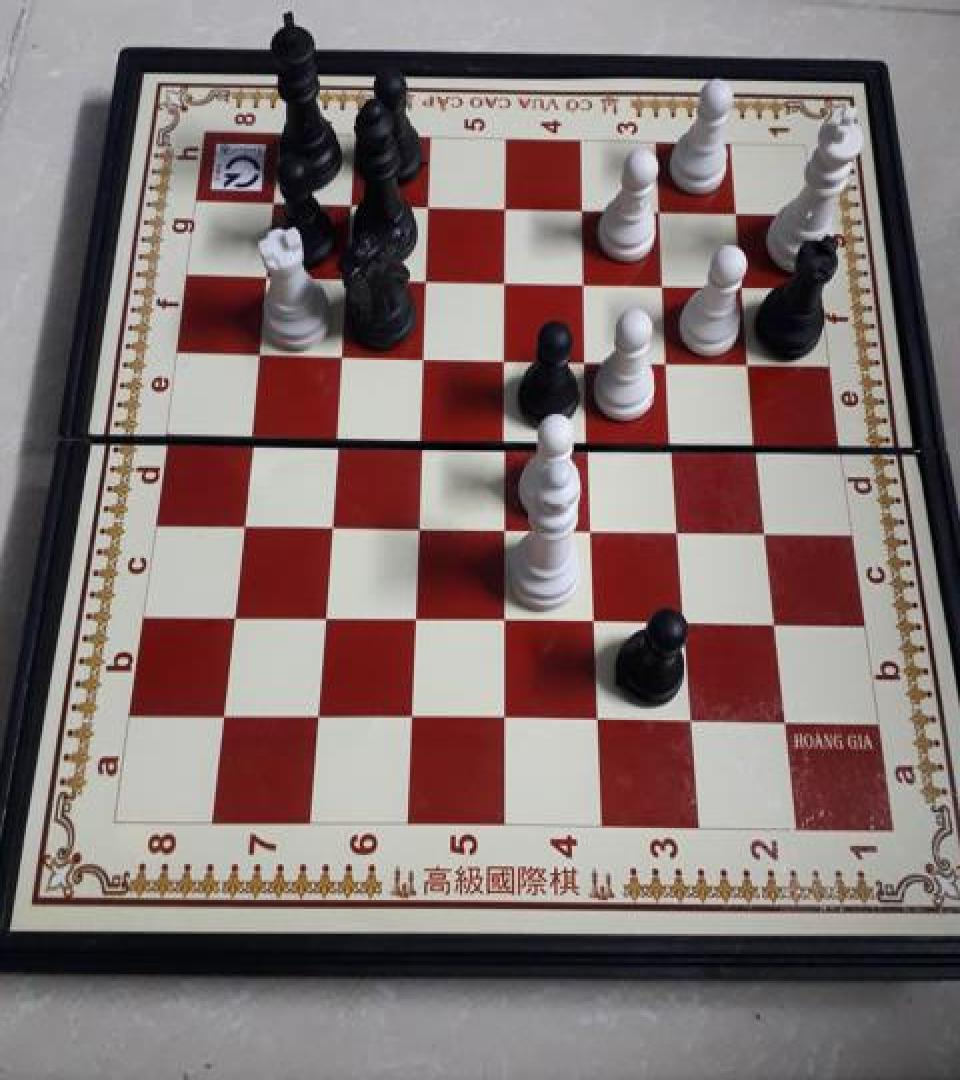xcorner: (395, 696, 427, 733), (488, 697, 520, 734), (581, 698, 613, 735), (208, 694, 240, 730), (301, 695, 333, 731), (674, 701, 706, 737), (768, 702, 800, 738), (218, 596, 250, 632), (308, 598, 340, 634), (398, 598, 430, 634), (488, 600, 520, 636), (578, 601, 610, 637), (668, 602, 700, 638), (759, 603, 791, 639), (227, 504, 259, 540), (314, 505, 346, 541), (401, 506, 433, 542), (488, 508, 520, 544), (576, 508, 608, 544), (663, 510, 695, 546), (750, 511, 782, 547), (235, 418, 267, 454), (320, 418, 352, 454), (404, 420, 436, 456), (489, 421, 521, 457), (573, 422, 605, 458), (658, 423, 690, 459), (742, 424, 774, 460), (243, 336, 275, 372), (325, 338, 357, 374), (407, 338, 439, 374), (489, 340, 521, 376), (571, 340, 603, 376), (653, 341, 685, 377), (735, 342, 767, 378), (250, 260, 282, 296), (330, 261, 362, 297), (409, 262, 441, 298), (489, 263, 521, 299), (569, 263, 601, 299), (648, 264, 680, 300), (728, 266, 760, 302), (257, 188, 289, 224), (335, 189, 367, 225), (412, 190, 444, 226), (489, 190, 521, 226), (567, 191, 599, 227), (722, 194, 754, 230), (644, 193, 676, 228)
